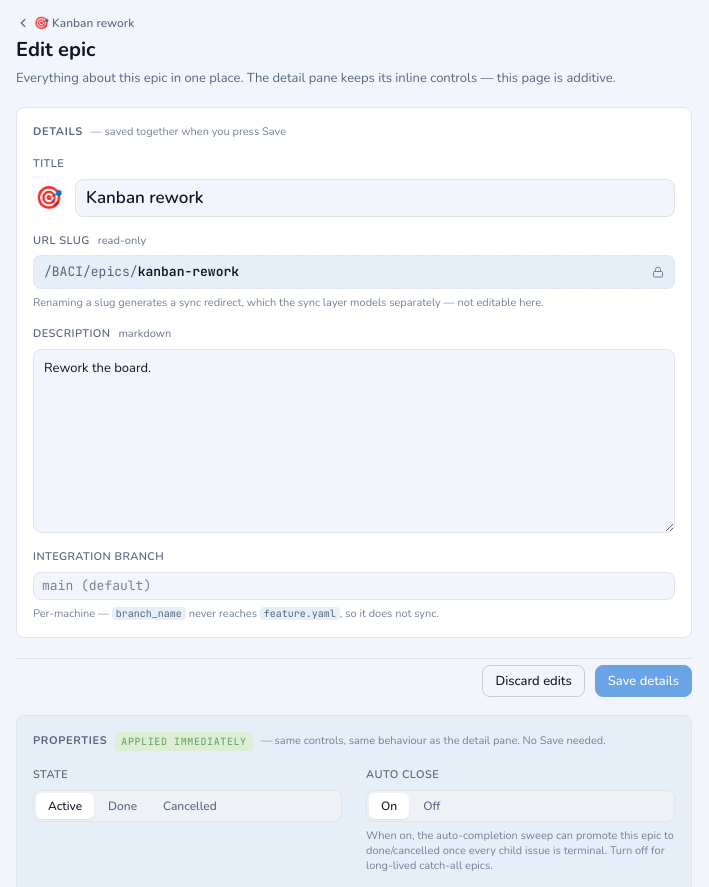
Scenario: EditEpicPage — navigation guard › disarms once the edit is reverted by hand
Replace the text in the field labelled "Title" with "Kanban overhaul" at (375, 198), box [75, 178, 675, 216]
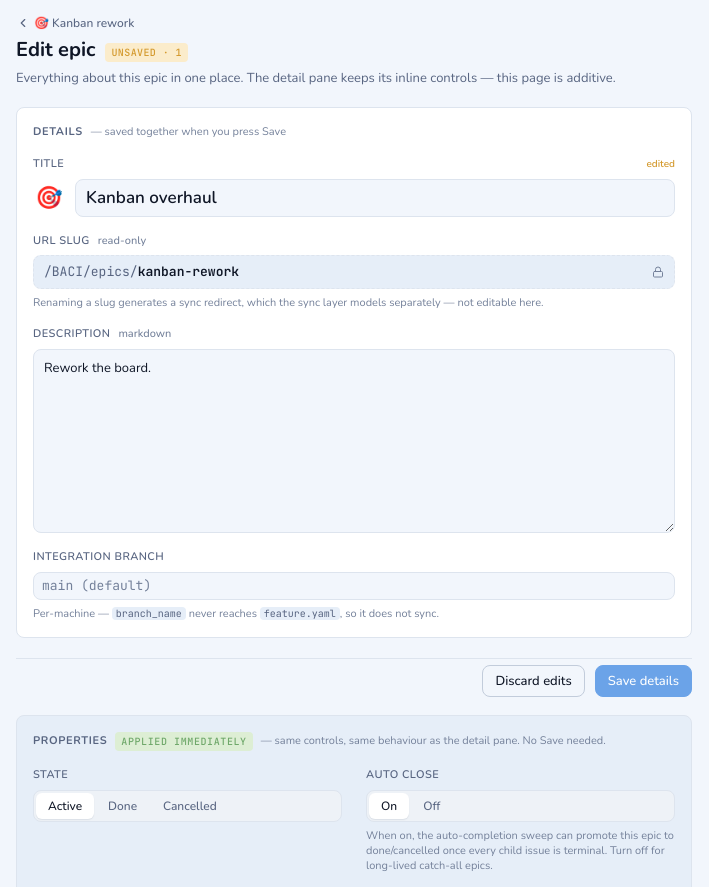
Replace the text in the field labelled "Title" with "Kanban rework" at (375, 198), box [75, 178, 675, 216]
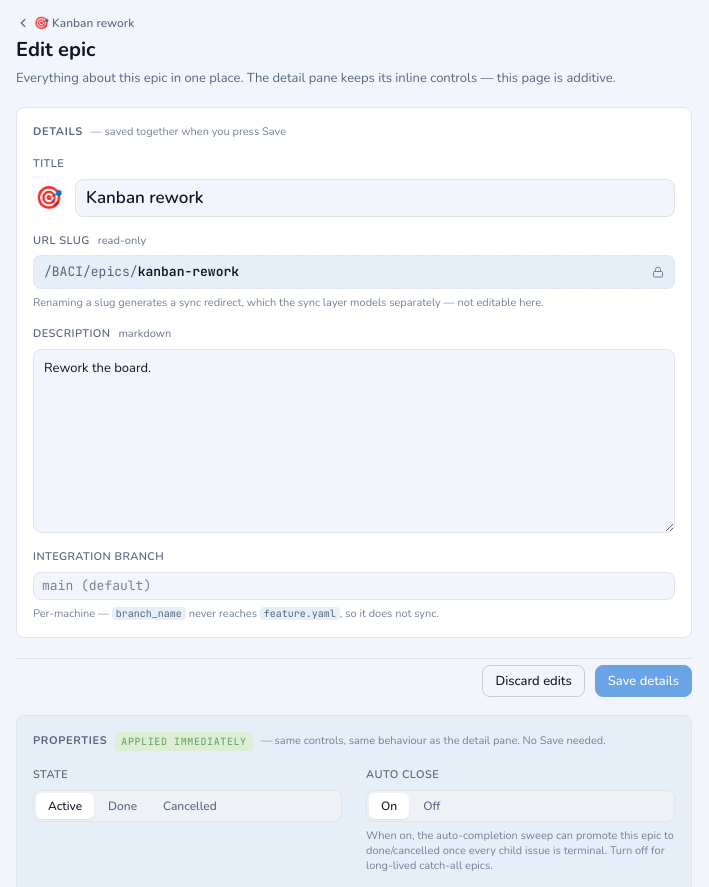
Check: the text "UNSAVED" is gone
